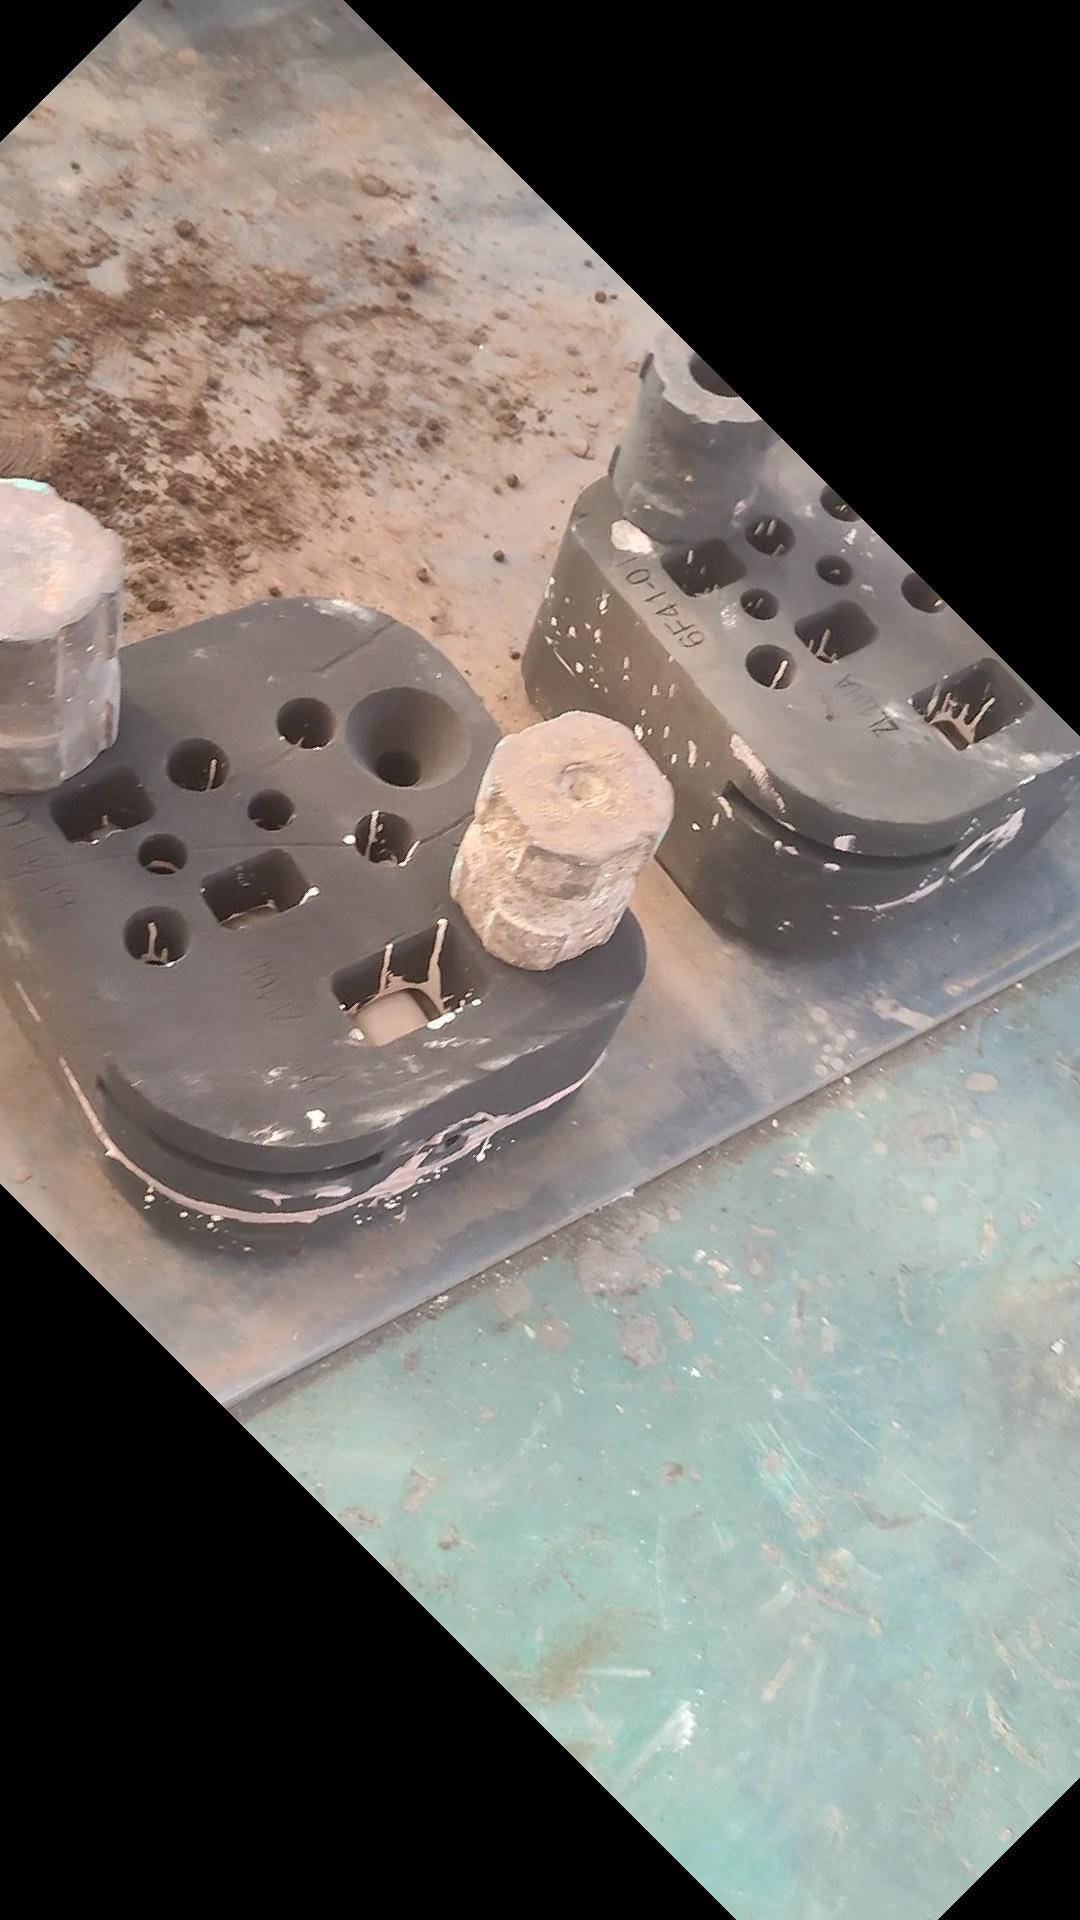pouring hole: (345, 684, 471, 787)
